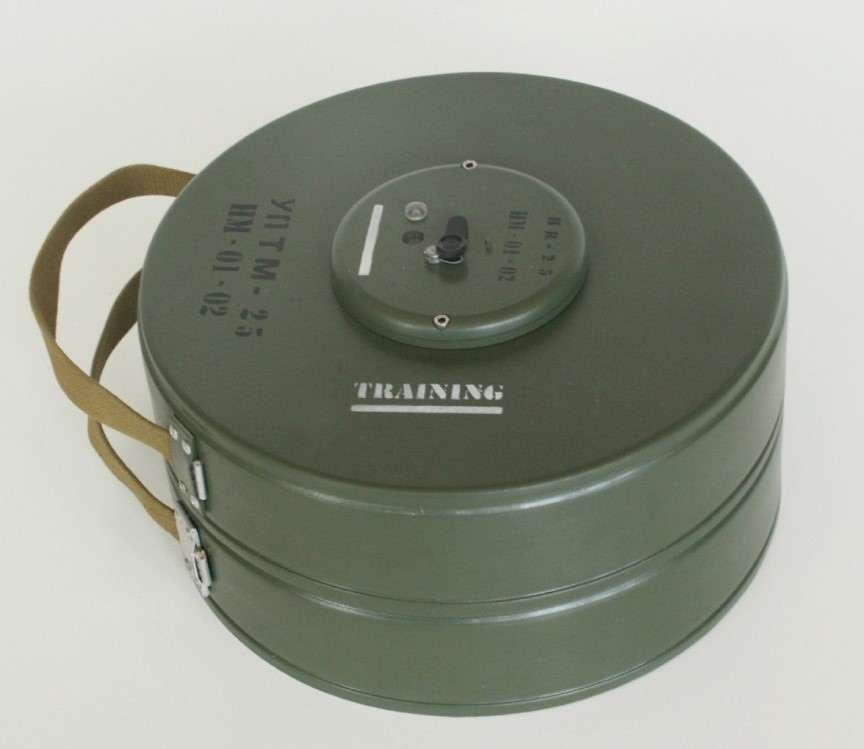car: (13, 37, 815, 738)
